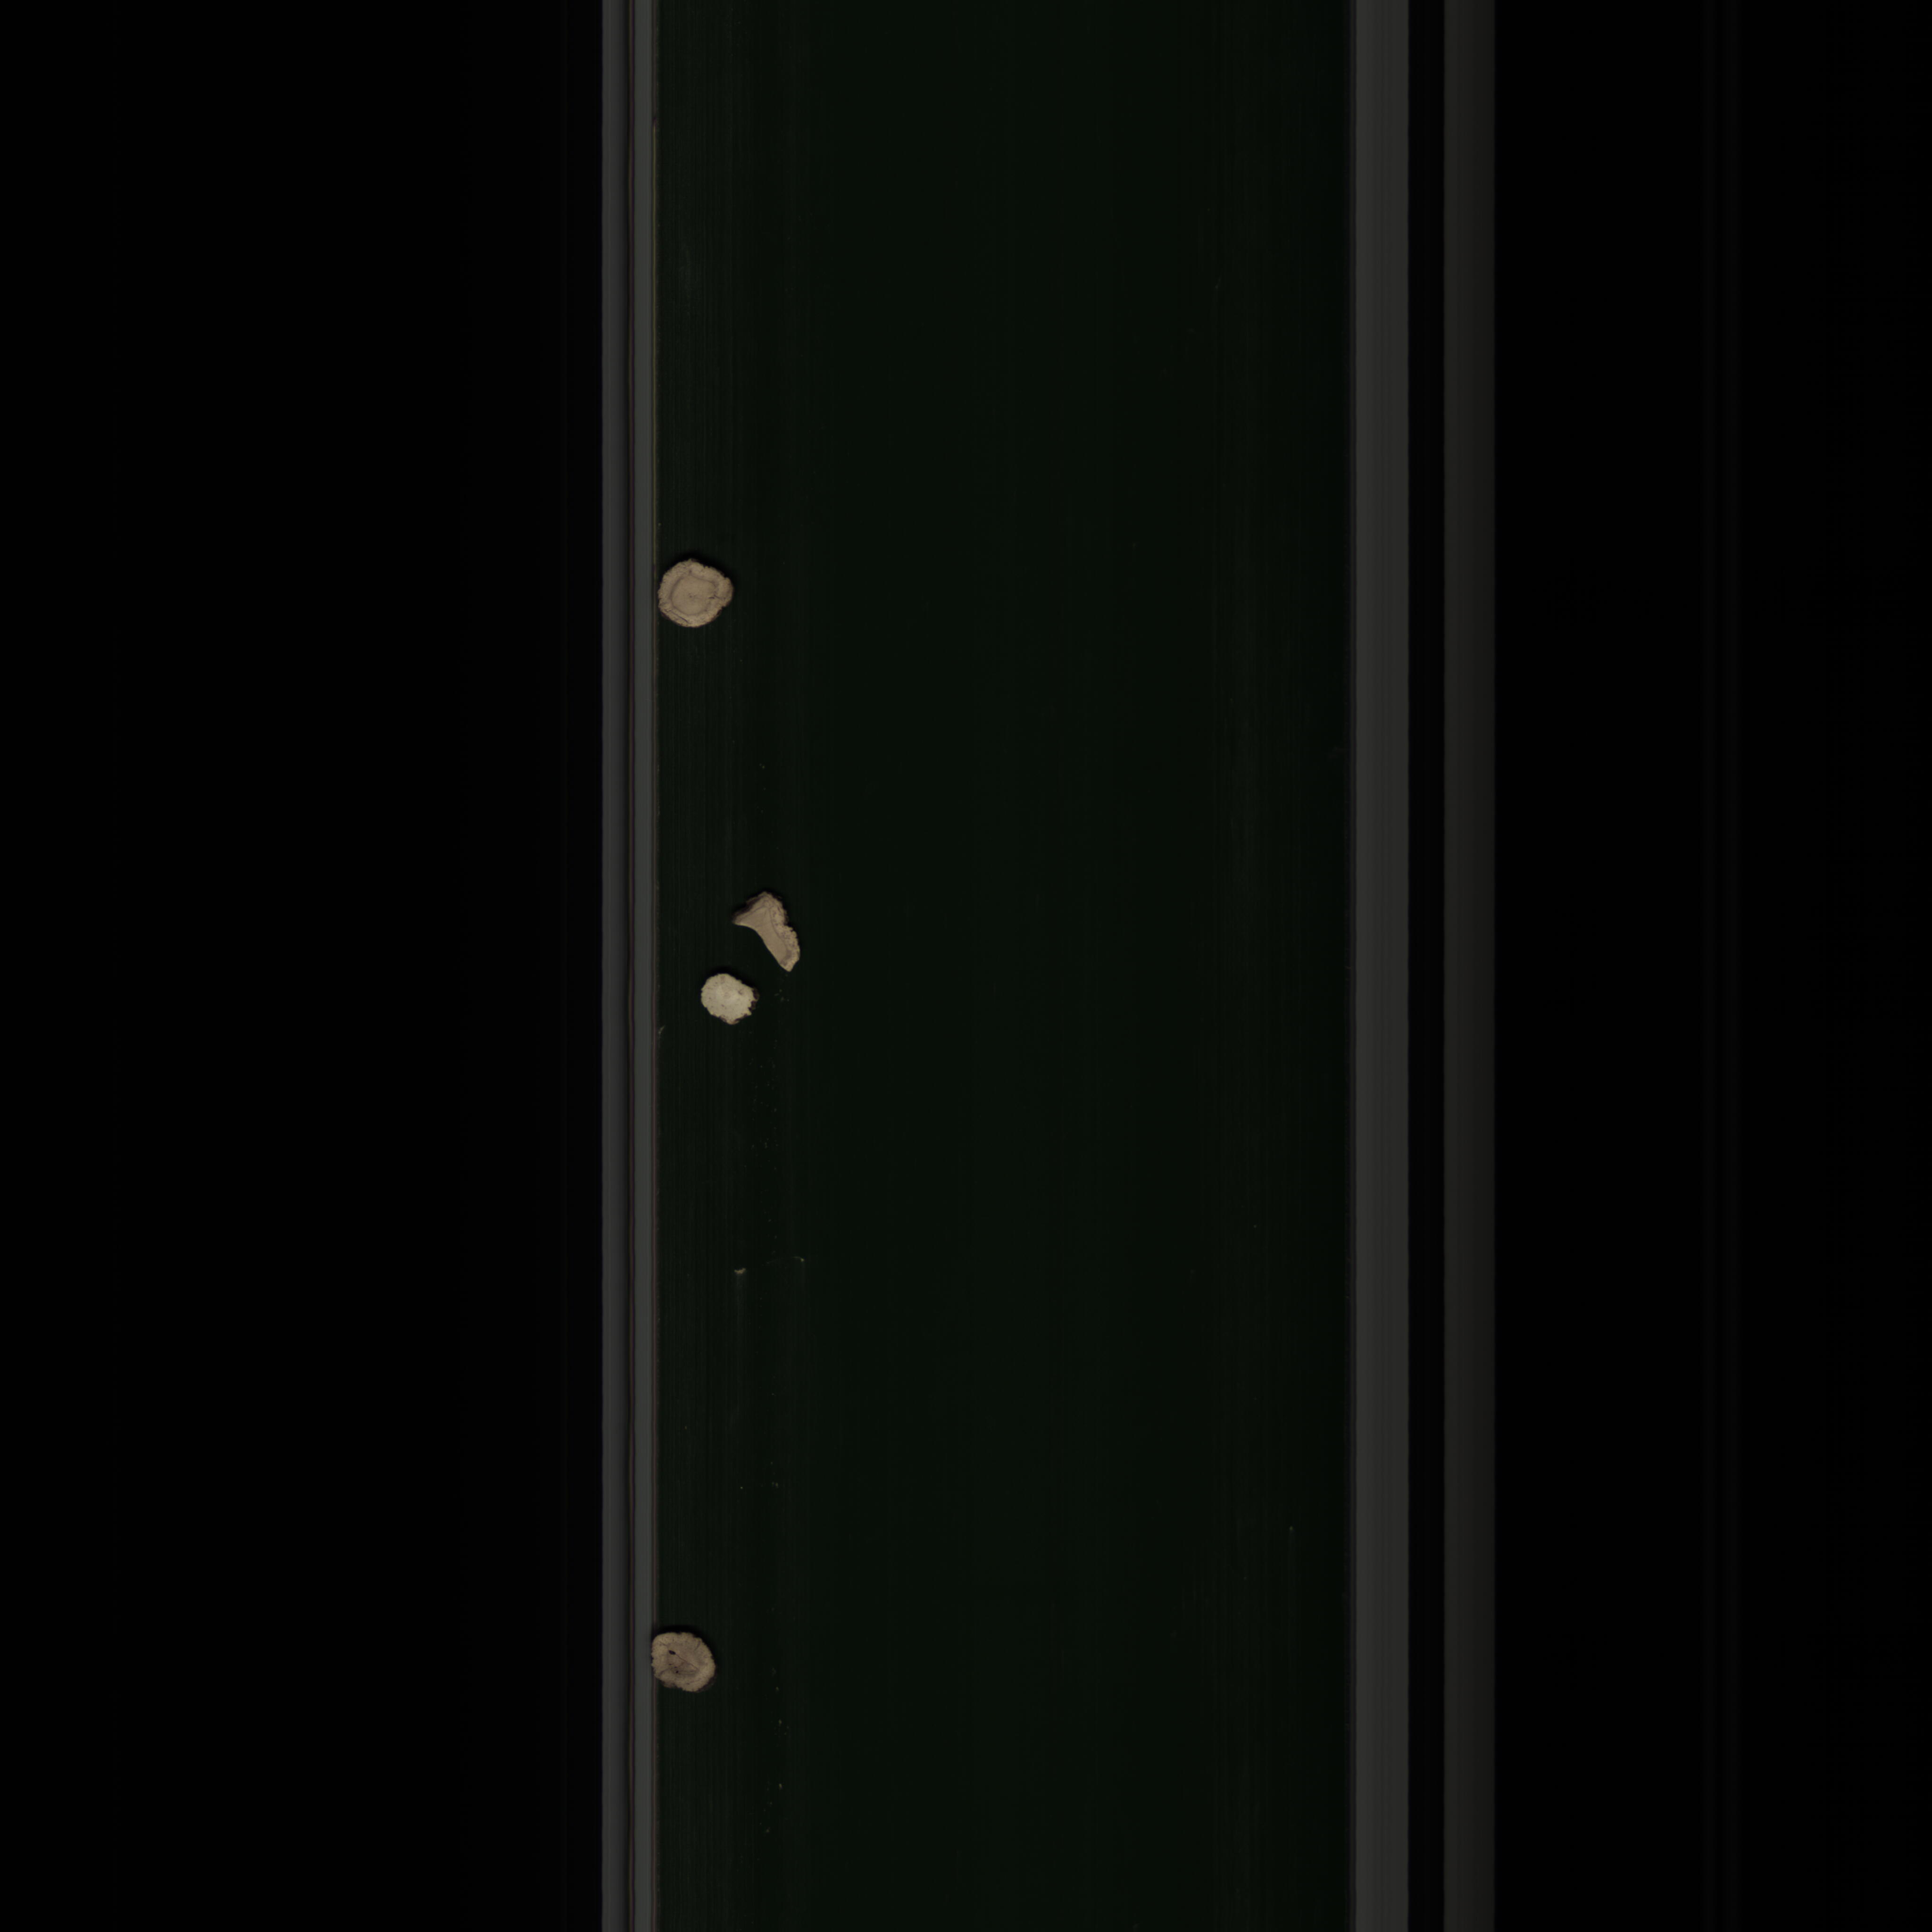debris: (720, 886, 816, 977)
moldy: (644, 1617, 720, 1697)
